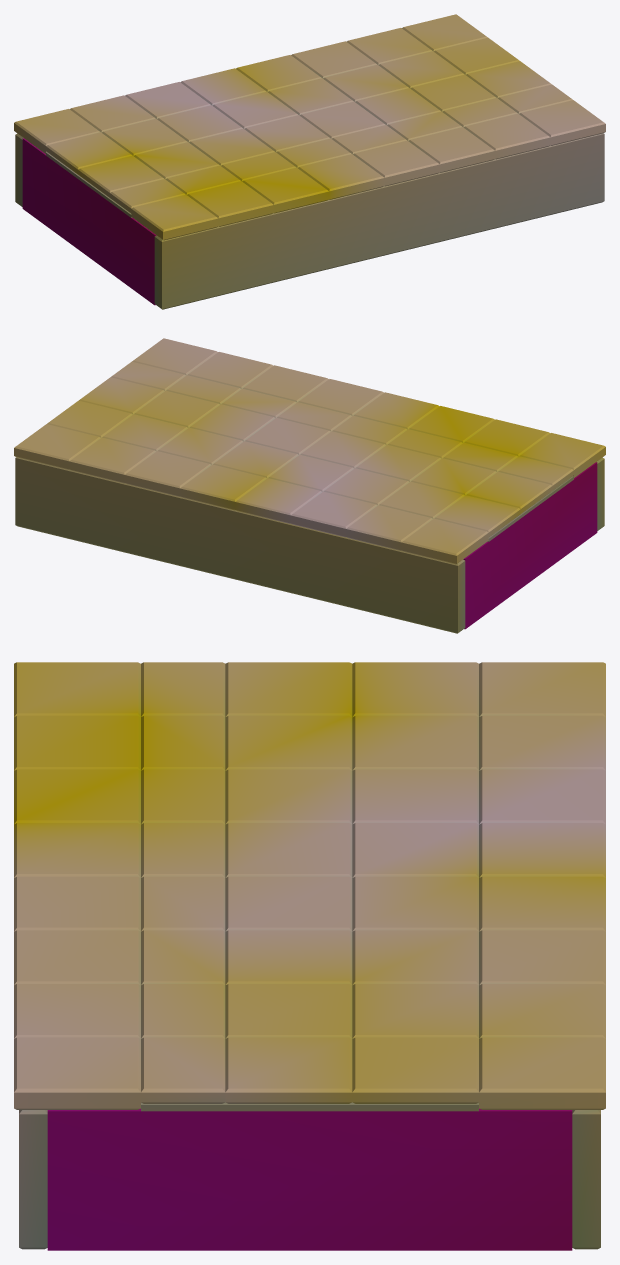
The model's file is Platform_Straight_6m_NoStripe.glb.
The picture shows the model from 3 angles, top to bottom: view 1: azimuth 30°, elevation 25°; view 2: azimuth 150°, elevation 25°; view 3: azimuth 270°, elevation 25°; orthographic projection. The views are drawn at different scales.
Parts seen in each view (by area): view 1: Platform_Straight_6m_NoStripe; view 2: Platform_Straight_6m_NoStripe; view 3: Platform_Straight_6m_NoStripe.
Part boxes in pixels (x1,y1,x2,y2): Platform_Straight_6m_NoStripe: (14, 14, 605, 309); Platform_Straight_6m_NoStripe: (14, 338, 605, 633); Platform_Straight_6m_NoStripe: (14, 662, 605, 1250).
Size of the model in its own units: 6 by 1.05 by 3.5.
